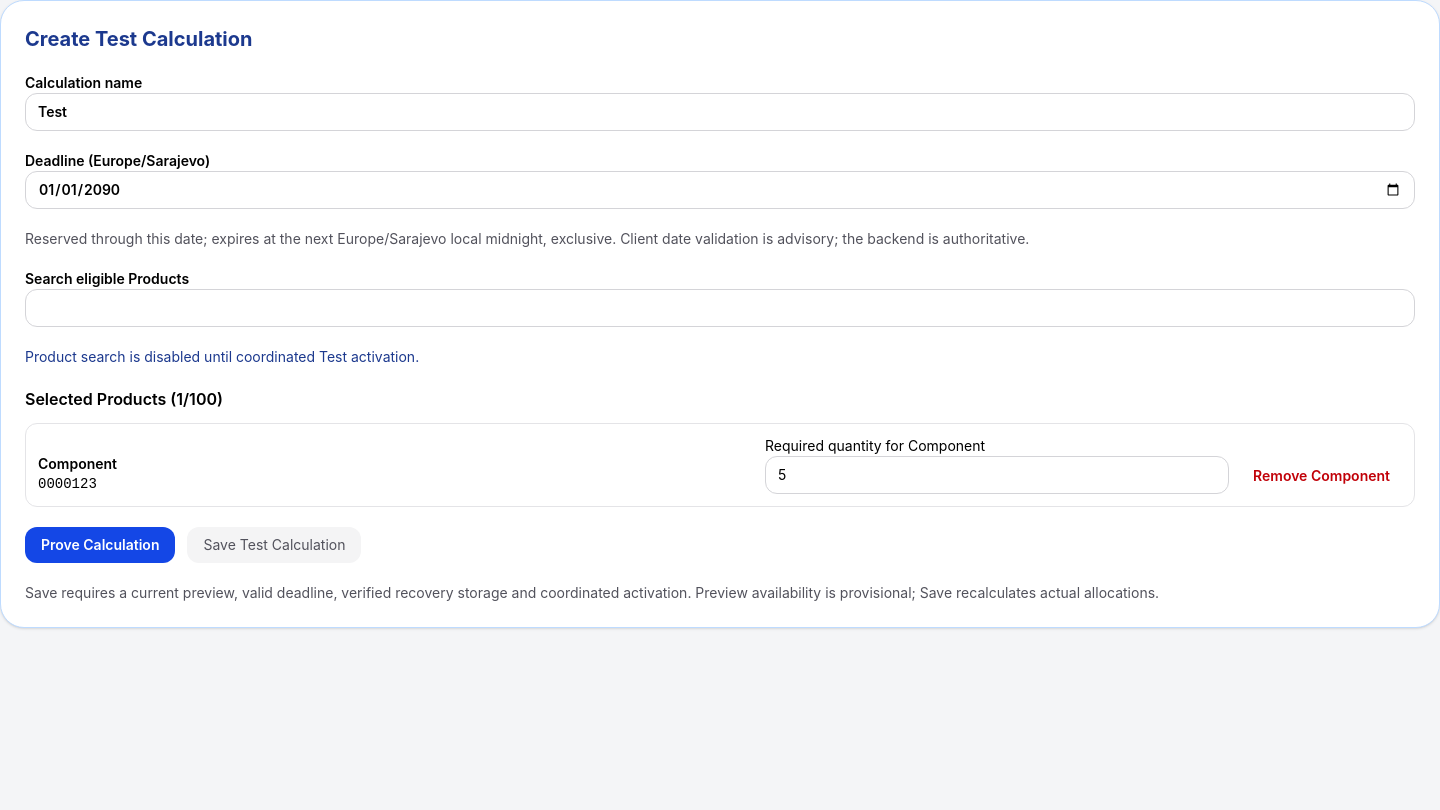
Test: Test Save editor integration (mock services) › requires a current proof, persists before Save and displays actual allocation rather than preview
This screenshot has width=1440, height=810.
Expected: the button "Save Test Calculation" is disabled, left=188, top=527, right=362, bottom=563
Click the button "Prove Calculation" at x=100, y=545, box left=25, top=527, right=176, bottom=563
(page scrolled)
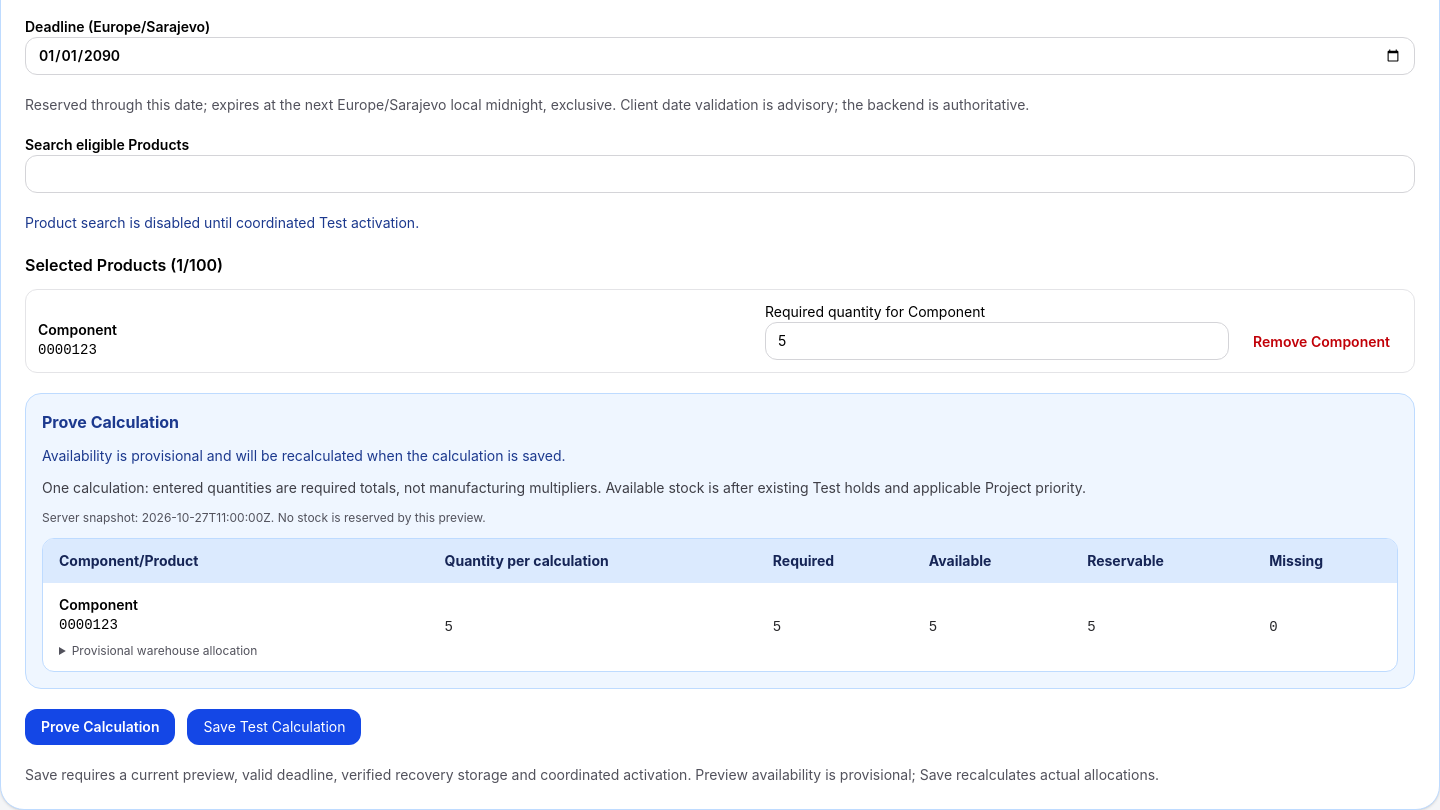
Now the button "Save Test Calculation" is enabled
Click the button "Save Test Calculation" at x=274, y=727, box left=188, top=709, right=362, bottom=745
(page scrolled)
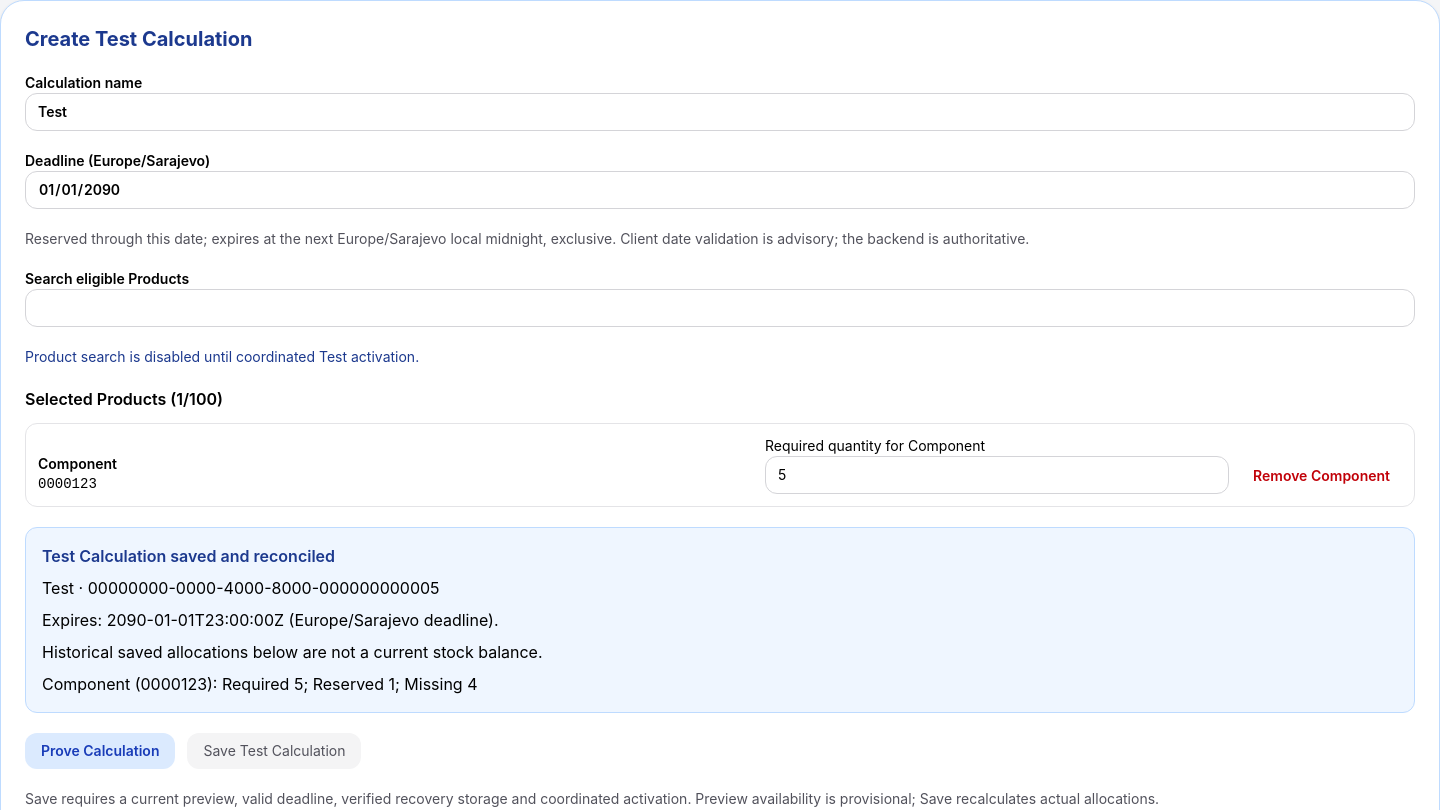
Expected: the field labelled "Calculation name" is disabled, left=25, top=93, right=1415, bottom=131
Now the element named "Saved Test Calculation" shows "Reserved 1; Missing 4", box left=25, top=527, right=1415, bottom=713
